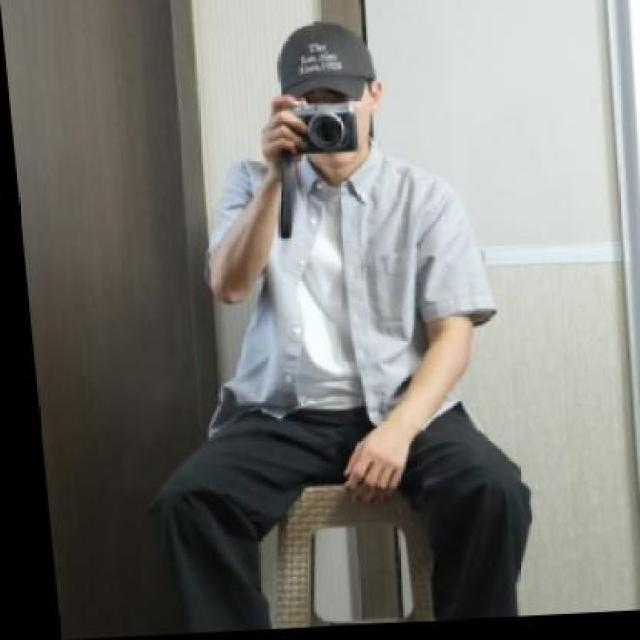hat: (271, 17, 378, 106)
